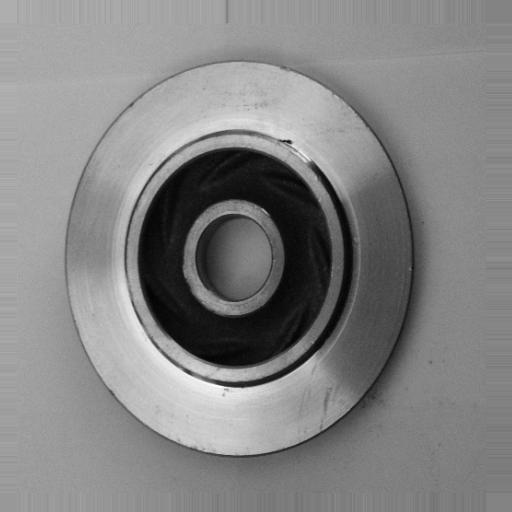crack: (277, 133, 326, 173)
unpolished_casting: (60, 56, 415, 460)
